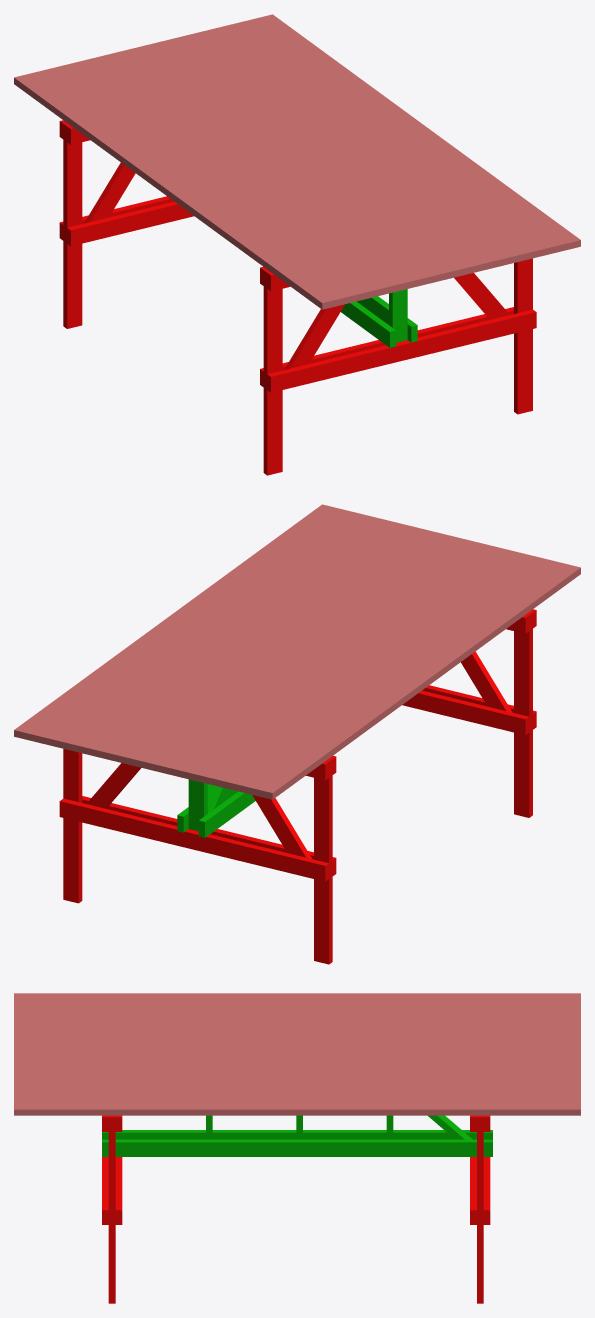
The model's file is result.glb.
3 renders of one model, top to bottom at view 1: azimuth 30°, elevation 25°; view 2: azimuth 150°, elevation 25°; view 3: azimuth 270°, elevation 25°, orthographic. The views are drawn at different scales.
Parts seen in each view (by area): view 1: 9b6e84fc-0a0a-45a1-a3f3-61577fbce460__Box, 0bad4d70-0ff8-4c77-9958-aa2d13f9bcff__sideH, ef749cff-921b-43f3-98aa-2f8ac54448e0__undefined, d1e863d5-6e46-4185-bca3-21f751a5e3b6__undefined, 25364b89-304a-4e59-a023-5d12db530120__undefined, 4ce011a6-53bb-418d-b11c-bb5d40f4528a__undefined, b62a14fa-04b5-45f0-af77-d8c2e6b8f2e7__undefined, 1ad74729-2870-4dcd-b948-6ec74920a435__undefined, d6cae6f9-9b1e-45a0-9b70-bcf53ecbf6c1__undefined, edd02959-2329-4d45-aaca-ca4cb270528b__undefined, a78451b6-468c-4561-9f54-2081dac8c74d__undefined, c02ae068-a4ce-4bc2-96a5-e395f441823b__undefined (+18 smaller); view 2: 9b6e84fc-0a0a-45a1-a3f3-61577fbce460__Box, 51ab1c08-facf-43c3-98d0-1cf3762dda46__undefined, a78451b6-468c-4561-9f54-2081dac8c74d__undefined, ef749cff-921b-43f3-98aa-2f8ac54448e0__undefined, d6cae6f9-9b1e-45a0-9b70-bcf53ecbf6c1__undefined, 220ae33f-6b7b-4fef-8566-33395201aa0b__undefined, d1e863d5-6e46-4185-bca3-21f751a5e3b6__undefined, 25364b89-304a-4e59-a023-5d12db530120__undefined, b62a14fa-04b5-45f0-af77-d8c2e6b8f2e7__undefined, edd02959-2329-4d45-aaca-ca4cb270528b__undefined, 00a1dbe9-ad6e-486a-be2a-726dee99704f__undefined, 4ce011a6-53bb-418d-b11c-bb5d40f4528a__undefined (+16 smaller); view 3: 07e39601-5d09-4678-8412-247edb0961ae__undefined, b63d6cd1-9b56-49ca-8ce6-f91016efc4d2__strutH, 9b6e84fc-0a0a-45a1-a3f3-61577fbce460__Box, d6cae6f9-9b1e-45a0-9b70-bcf53ecbf6c1__undefined, edd02959-2329-4d45-aaca-ca4cb270528b__undefined, 220ae33f-6b7b-4fef-8566-33395201aa0b__undefined, 25364b89-304a-4e59-a023-5d12db530120__undefined, 00a1dbe9-ad6e-486a-be2a-726dee99704f__undefined, 99ec4202-143d-4fd7-84d0-9f73908a389e__undefined, b62a14fa-04b5-45f0-af77-d8c2e6b8f2e7__undefined, 1ad74729-2870-4dcd-b948-6ec74920a435__undefined, c02ae068-a4ce-4bc2-96a5-e395f441823b__undefined (+14 smaller).
Part boxes in pixels (x1=…): 9b6e84fc-0a0a-45a1-a3f3-61577fbce460__Box: x1=14, y1=74, x2=337, y2=309; 0bad4d70-0ff8-4c77-9958-aa2d13f9bcff__sideH: x1=267, y1=309, x2=536, y2=392; ef749cff-921b-43f3-98aa-2f8ac54448e0__undefined: x1=242, y1=18, x2=565, y2=253; d1e863d5-6e46-4185-bca3-21f751a5e3b6__undefined: x1=121, y1=48, x2=443, y2=283; 25364b89-304a-4e59-a023-5d12db530120__undefined: x1=166, y1=36, x2=489, y2=272; 4ce011a6-53bb-418d-b11c-bb5d40f4528a__undefined: x1=212, y1=25, x2=535, y2=261; b62a14fa-04b5-45f0-af77-d8c2e6b8f2e7__undefined: x1=29, y1=70, x2=352, y2=305; 1ad74729-2870-4dcd-b948-6ec74920a435__undefined: x1=45, y1=66, x2=367, y2=302; d6cae6f9-9b1e-45a0-9b70-bcf53ecbf6c1__undefined: x1=75, y1=59, x2=398, y2=294; edd02959-2329-4d45-aaca-ca4cb270528b__undefined: x1=90, y1=55, x2=413, y2=290; a78451b6-468c-4561-9f54-2081dac8c74d__undefined: x1=151, y1=40, x2=474, y2=276; c02ae068-a4ce-4bc2-96a5-e395f441823b__undefined: x1=60, y1=62, x2=383, y2=298; 9b6e84fc-0a0a-45a1-a3f3-61577fbce460__Box: x1=257, y1=564, x2=580, y2=799; 51ab1c08-facf-43c3-98d0-1cf3762dda46__undefined: x1=59, y1=798, x2=328, y2=881; a78451b6-468c-4561-9f54-2081dac8c74d__undefined: x1=120, y1=530, x2=443, y2=766; ef749cff-921b-43f3-98aa-2f8ac54448e0__undefined: x1=29, y1=508, x2=352, y2=743; d6cae6f9-9b1e-45a0-9b70-bcf53ecbf6c1__undefined: x1=196, y1=549, x2=519, y2=784; 220ae33f-6b7b-4fef-8566-33395201aa0b__undefined: x1=166, y1=541, x2=489, y2=777; d1e863d5-6e46-4185-bca3-21f751a5e3b6__undefined: x1=151, y1=538, x2=473, y2=773; 25364b89-304a-4e59-a023-5d12db530120__undefined: x1=105, y1=526, x2=428, y2=762; b62a14fa-04b5-45f0-af77-d8c2e6b8f2e7__undefined: x1=242, y1=560, x2=565, y2=795; edd02959-2329-4d45-aaca-ca4cb270528b__undefined: x1=181, y1=545, x2=504, y2=781; 00a1dbe9-ad6e-486a-be2a-726dee99704f__undefined: x1=90, y1=523, x2=412, y2=758; 4ce011a6-53bb-418d-b11c-bb5d40f4528a__undefined: x1=59, y1=515, x2=382, y2=751; 07e39601-5d09-4678-8412-247edb0961ae__undefined: x1=14, y1=1102, x2=580, y2=1115; b63d6cd1-9b56-49ca-8ce6-f91016efc4d2__strutH: x1=102, y1=1139, x2=492, y2=1156; 9b6e84fc-0a0a-45a1-a3f3-61577fbce460__Box: x1=14, y1=993, x2=580, y2=1000; d6cae6f9-9b1e-45a0-9b70-bcf53ecbf6c1__undefined: x1=14, y1=1020, x2=580, y2=1027; edd02959-2329-4d45-aaca-ca4cb270528b__undefined: x1=14, y1=1027, x2=580, y2=1034; 220ae33f-6b7b-4fef-8566-33395201aa0b__undefined: x1=14, y1=1034, x2=580, y2=1041; 25364b89-304a-4e59-a023-5d12db530120__undefined: x1=14, y1=1061, x2=580, y2=1068; 00a1dbe9-ad6e-486a-be2a-726dee99704f__undefined: x1=14, y1=1068, x2=580, y2=1075; 99ec4202-143d-4fd7-84d0-9f73908a389e__undefined: x1=14, y1=1075, x2=580, y2=1082; b62a14fa-04b5-45f0-af77-d8c2e6b8f2e7__undefined: x1=14, y1=1000, x2=580, y2=1006; 1ad74729-2870-4dcd-b948-6ec74920a435__undefined: x1=14, y1=1007, x2=580, y2=1013; c02ae068-a4ce-4bc2-96a5-e395f441823b__undefined: x1=14, y1=1014, x2=580, y2=1020.
Bounding box in the file's own units: 960 × 723 × 1930.
